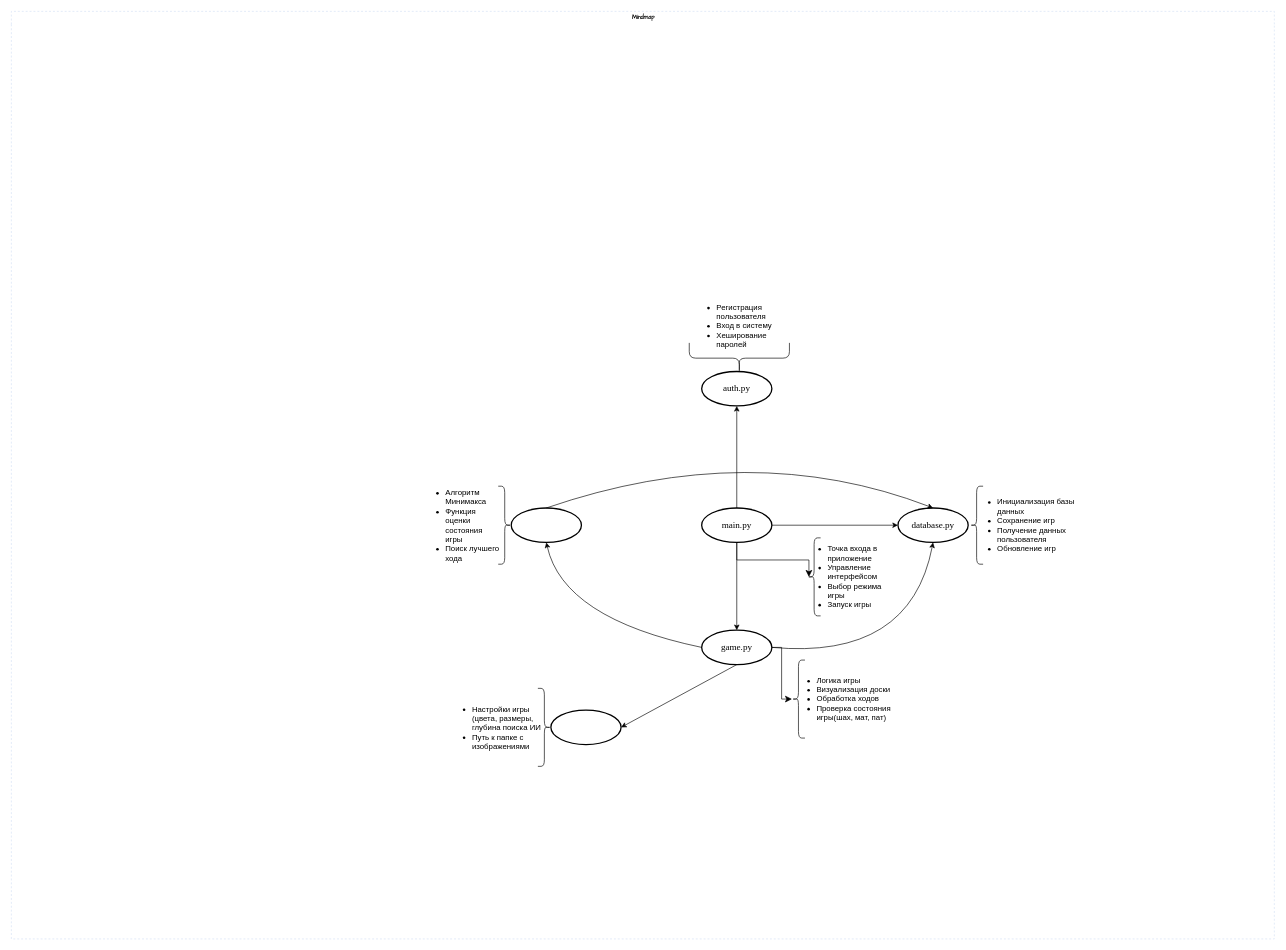
Some shapes in this 1286 by 950 pixel diagram are drawn without their labels. The shapes that lost their labels are listed below. From the top down, each one's centre as x and y in pixels, then its label:
At point (546, 525): "ai.py".
At point (585, 727): "settings.py".
